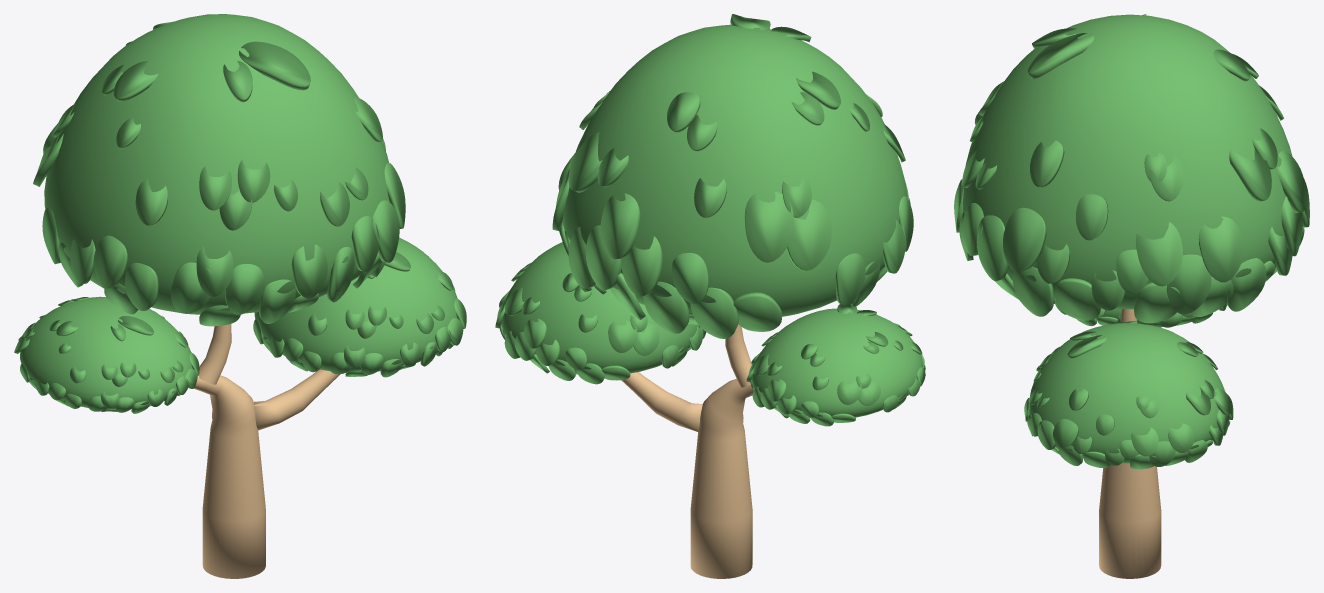
The model's file is BoomContext2.fbx.
3 views of the same model, side by side, from view 1: azimuth 30°, elevation 25°; view 2: azimuth 150°, elevation 25°; view 3: azimuth 270°, elevation 25° (orthographic).
Visible parts, largest first — view 1: Tree2; view 2: Tree2; view 3: Tree2.
Boxes of the visible parts, bbox=[...] form: Tree2: bbox=[14, 14, 466, 578]; Tree2: bbox=[495, 14, 925, 578]; Tree2: bbox=[954, 14, 1309, 578].
Bounding box in the file's own units: 75.94 × 95.41 × 57.97.
